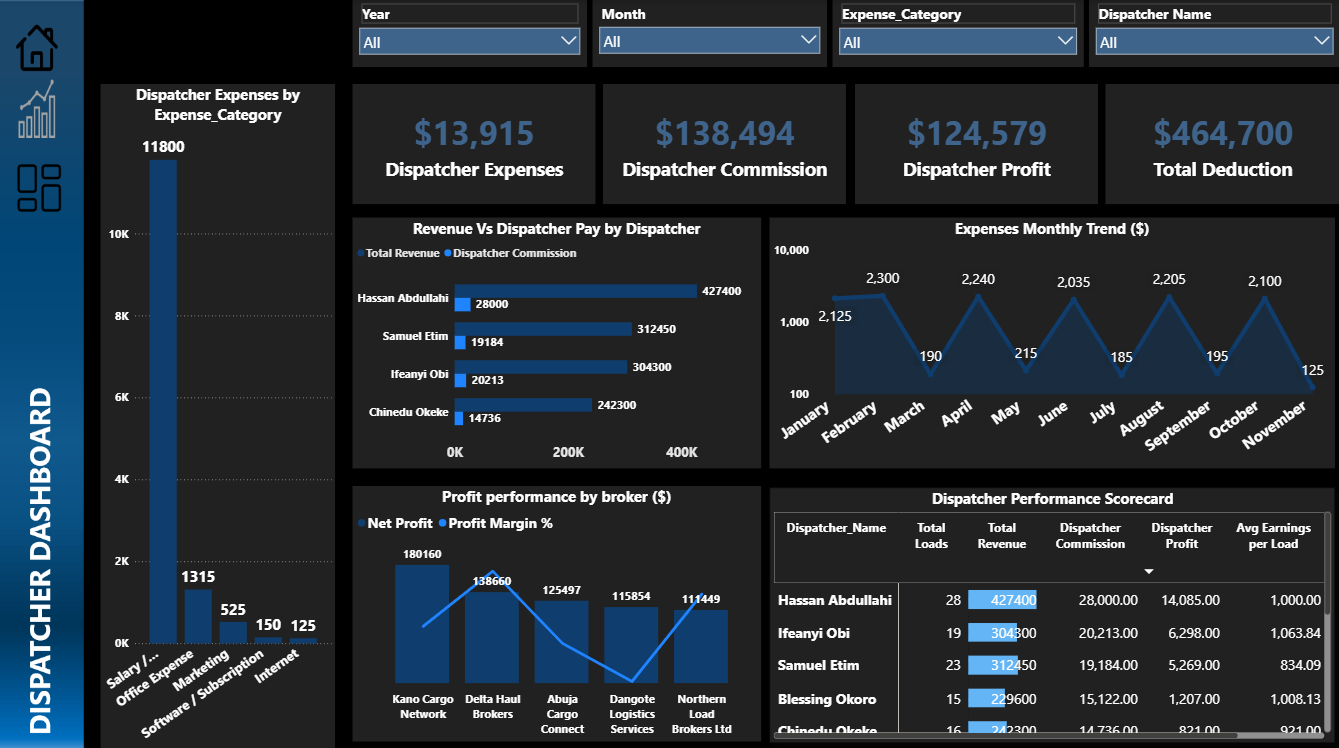

This screenshot's page, from the dashboard's own definition file:
{"tool":"powerbi","page":{"name":"DISPATCHER DASHBOARD","canvas":[1920,1080],"ordinal":1},"visuals":[{"type":"lineChart","title":"Expenses Monthly Trend ($)","fields":{"Y":["KPI_Measures.Dispatcher Expenses"],"Category":["Date_Table.Month"]},"box":[1102.2,311.5,810,359],"z":0},{"type":"clusteredBarChart","title":"Revenue Vs Dispatcher Pay by Dispatcher","fields":{"Category":["Load_Data.Dispatcher_Name"],"Y":["KPI_Measures.Load Revenue","KPI_Measures.Dispatcher Pay"]},"box":[504,311.5,585,359],"z":1000},{"type":"lineClusteredColumnComboChart","title":"Profit performance by broker ($)","fields":{"Category":["Load_Data.Broker_Name"],"Y":["KPI_Measures.Load Profit"],"Y2":["KPI_Measures.Profit Margin %"]},"box":[504,696,585,366],"z":2000},{"type":"pivotTable","title":"Dispatcher Performance Scorecard","fields":{"Rows":["Load_Data.Dispatcher_Name"],"Values":["KPI_Measures.Total Loads","KPI_Measures.Load Revenue","KPI_Measures.Dispatcher Pay","KPI_Measures.Dispatcher Profit","KPI_Measures.Avg Earnings per Load","KPI_Measures.Dispatcher Profit Margin %"]},"box":[1102.2,698.3,810,366],"z":3000},{"type":"card","fields":{"Values":["KPI_Measures.Dispatcher Pay"]},"box":[864,120,348,172],"z":4000},{"type":"card","fields":{"Values":["KPI_Measures.Dispatcher Expenses"]},"box":[504,120,348,172],"z":5000},{"type":"card","fields":{"Values":["KPI_Measures.Dispatcher Profit"]},"box":[1224,120,348,172],"z":6000},{"type":"card","fields":{"Values":["KPI_Measures.Total Deduction"]},"box":[1584,120,336,172],"z":7000},{"type":"slicer","fields":{"Values":["Expense_Data.Year"]},"box":[504,0,336,96],"z":8000},{"type":"slicer","fields":{"Values":["Date_Table.Month"]},"box":[848,0,336,96],"z":9000},{"type":"slicer","fields":{"Values":["Expense_Data.Expense_Category"]},"box":[1192,0,360,96],"z":10000},{"type":"slicer","fields":{"Values":["Load_Data.Dispatcher_Name"]},"box":[1560,0,360,96],"z":11000},{"type":"clusteredColumnChart","fields":{"Category":["Expense_Data.Expense_Category"],"Y":["KPI_Measures.Dispatcher Expenses"]},"box":[144,120,336,960],"z":12000},{"type":"image","box":[0,0,120,1080],"z":13000},{"type":"actionButton","box":[24,24,72,72],"z":14000},{"type":"actionButton","box":[24,120,72,96],"z":15000},{"type":"actionButton","box":[24,216,72,96],"z":16000}]}

Visuals, with their boxes in screenshot pixels (x1, y1, x2, y2), scaled from the page's 1920x1080 canvas onto the 1339x748 screenshot:
"Expenses Monthly Trend ($)" lineChart: detection(769, 216, 1334, 464)
"Revenue Vs Dispatcher Pay by Dispatcher" clusteredBarChart: detection(351, 216, 759, 464)
"Profit performance by broker ($)" lineClusteredColumnComboChart: detection(351, 482, 759, 736)
"Dispatcher Performance Scorecard" pivotTable: detection(769, 484, 1334, 737)
card - KPI_Measures.Dispatcher Pay: detection(603, 83, 845, 202)
card - KPI_Measures.Dispatcher Expenses: detection(351, 83, 594, 202)
card - KPI_Measures.Dispatcher Profit: detection(854, 83, 1096, 202)
card - KPI_Measures.Total Deduction: detection(1105, 83, 1338, 202)
slicer - Expense_Data.Year: detection(351, 0, 586, 66)
slicer - Date_Table.Month: detection(591, 0, 826, 66)
slicer - Expense_Data.Expense_Category: detection(831, 0, 1082, 66)
slicer - Load_Data.Dispatcher_Name: detection(1088, 0, 1338, 66)
clusteredColumnChart - Expense_Data.Expense_Category x KPI_Measures.Dispatcher Expenses: detection(100, 83, 335, 747)
image: detection(0, 0, 84, 747)
actionButton: detection(17, 17, 67, 66)
actionButton: detection(17, 83, 67, 150)
actionButton: detection(17, 150, 67, 216)
